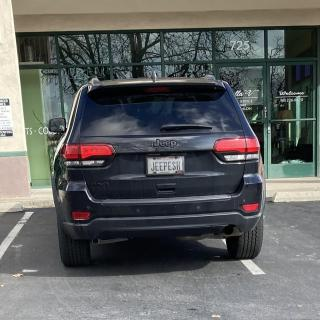license: (146, 155, 187, 177)
